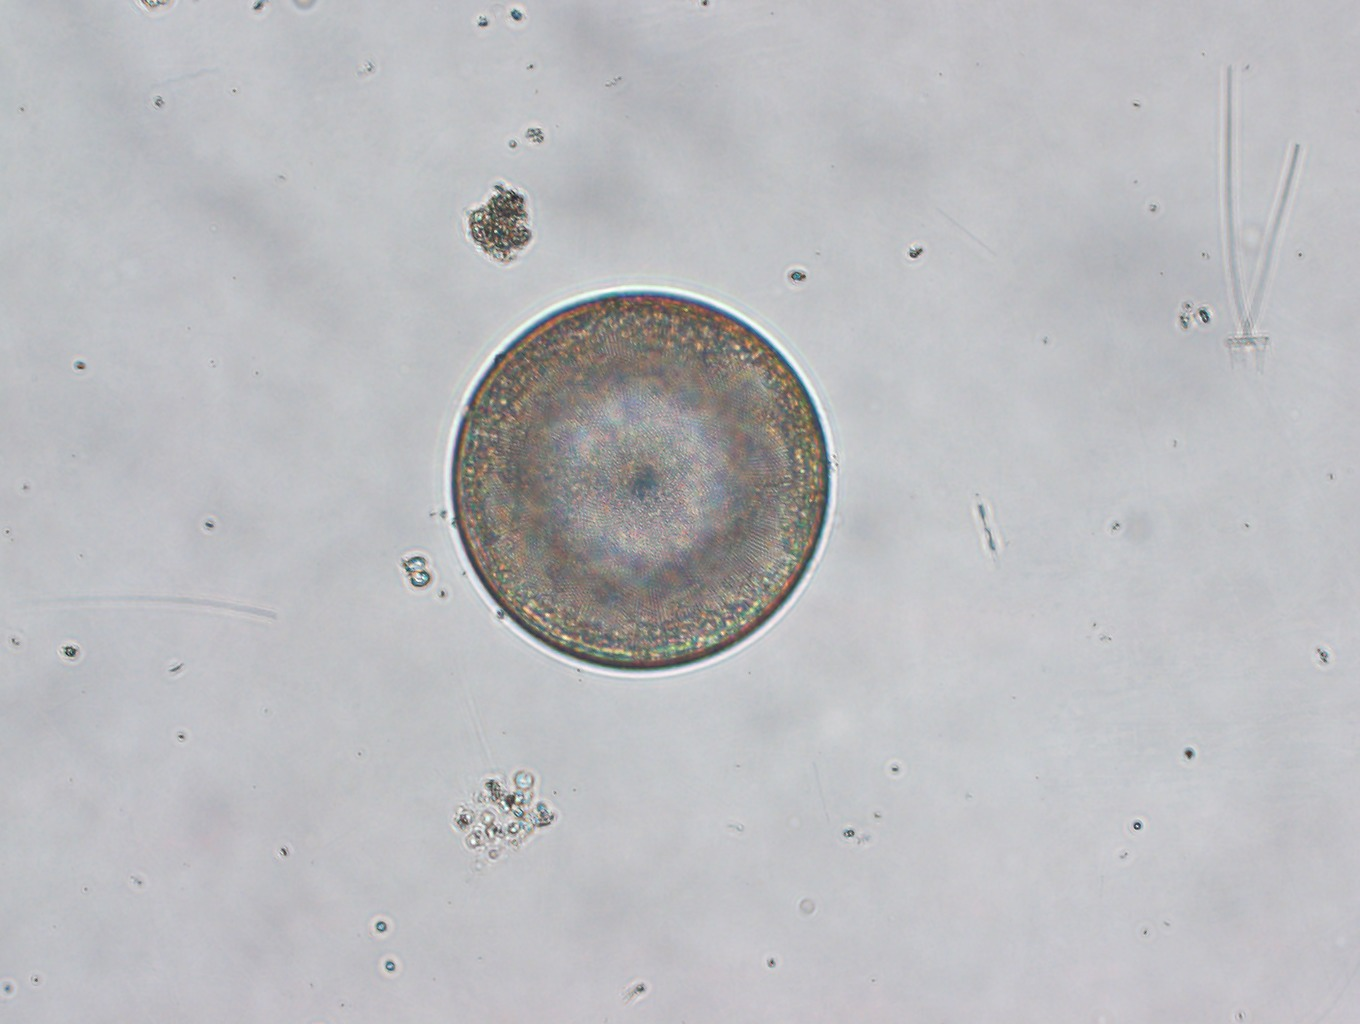coscinodiscus: (447, 286, 836, 675)
